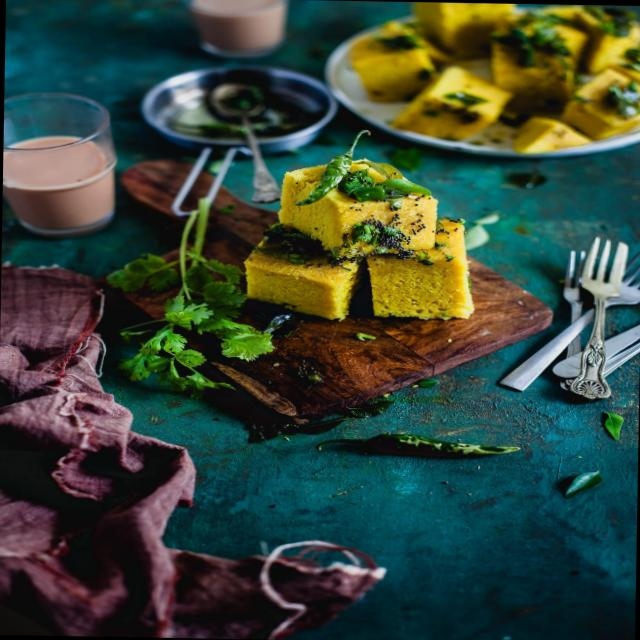dhokla: (345, 0, 640, 141), (240, 154, 475, 324)
